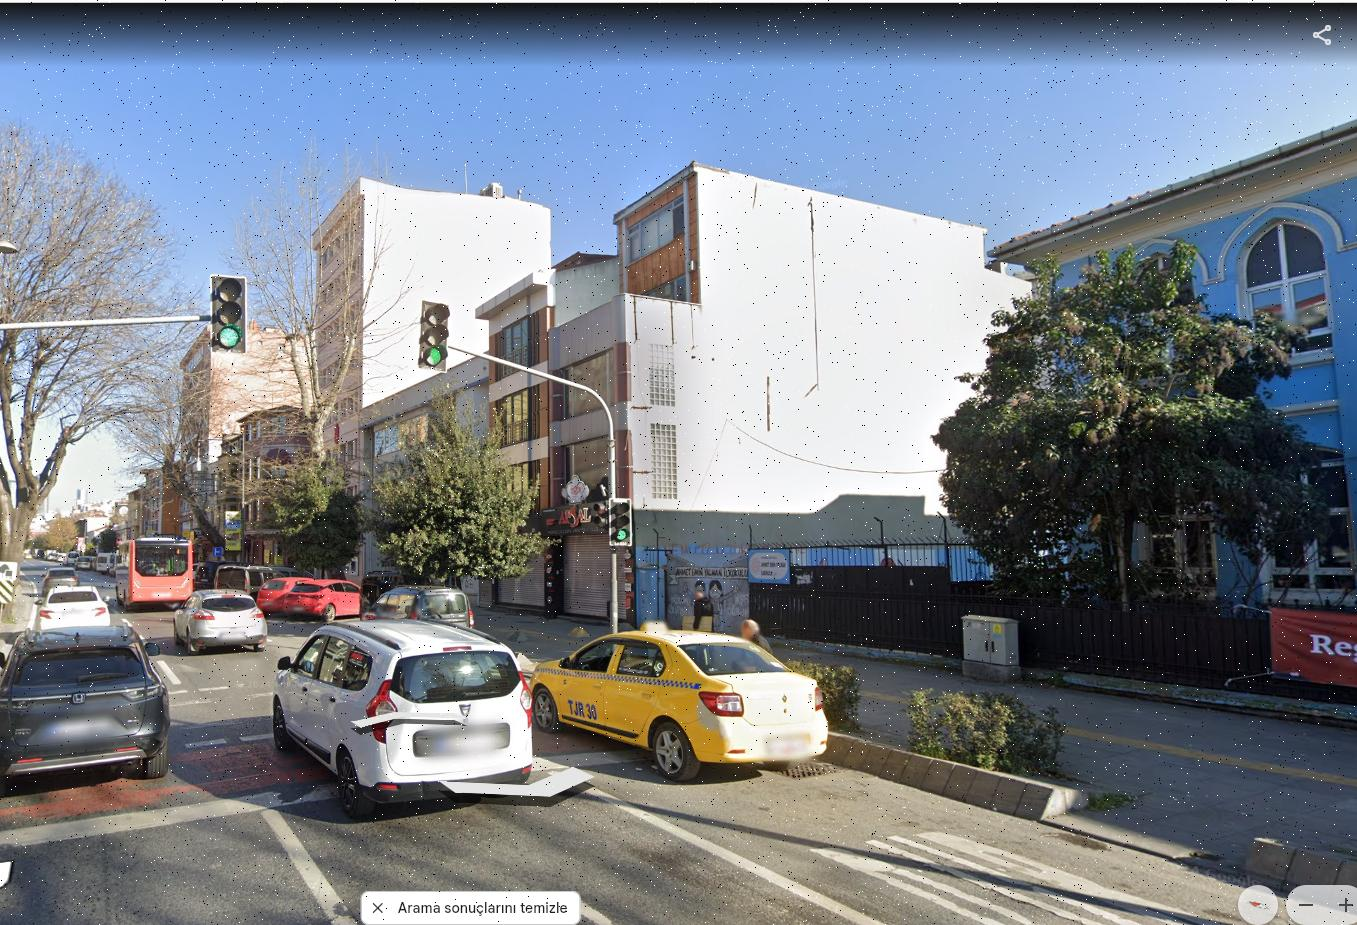greenlight: (210, 273, 246, 348), (422, 301, 448, 366), (609, 498, 632, 543)
